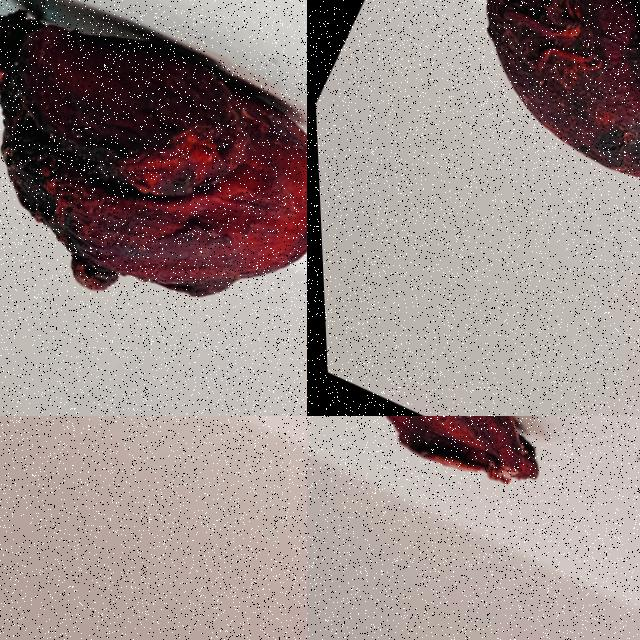Agglomerated_cocoabeans: (0, 0, 306, 415), (333, 0, 639, 313)
Flat_cocoabeans: (307, 416, 639, 584)
